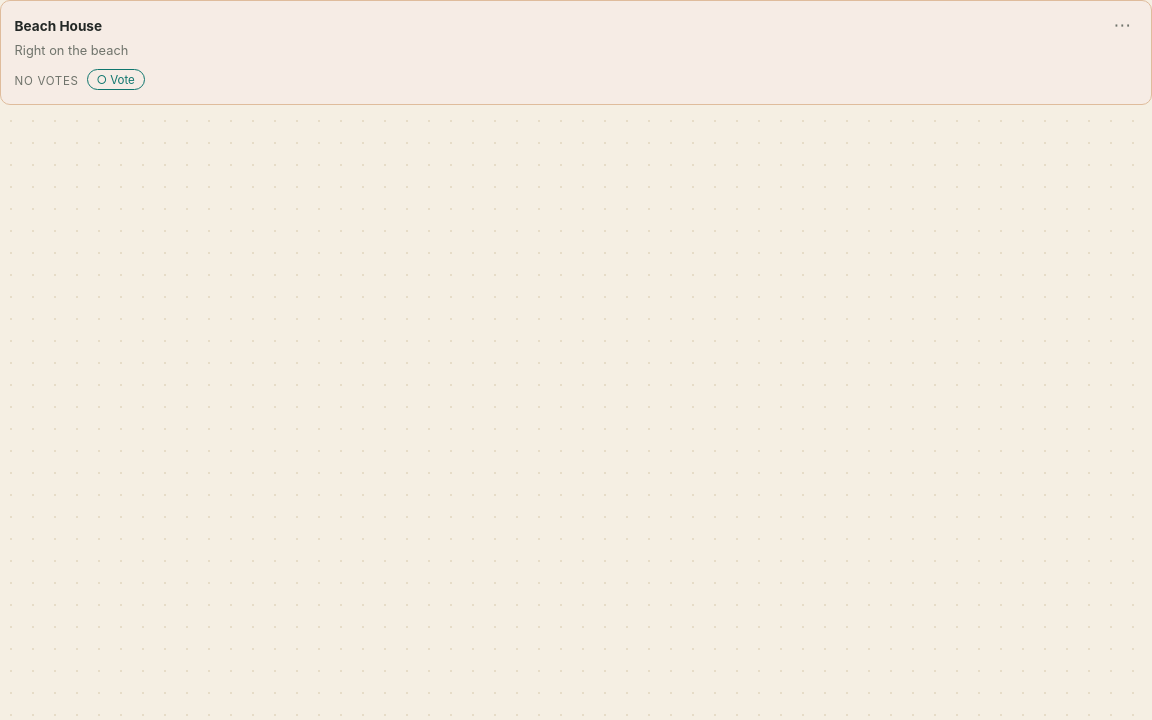
OptionCard › keeps the proposer off the card and in the detail dialog
The width and height of the screenshot is (1152, 720).
Click the button with aria-label "view details".
click(58, 26)  # box [15,18,102,34]
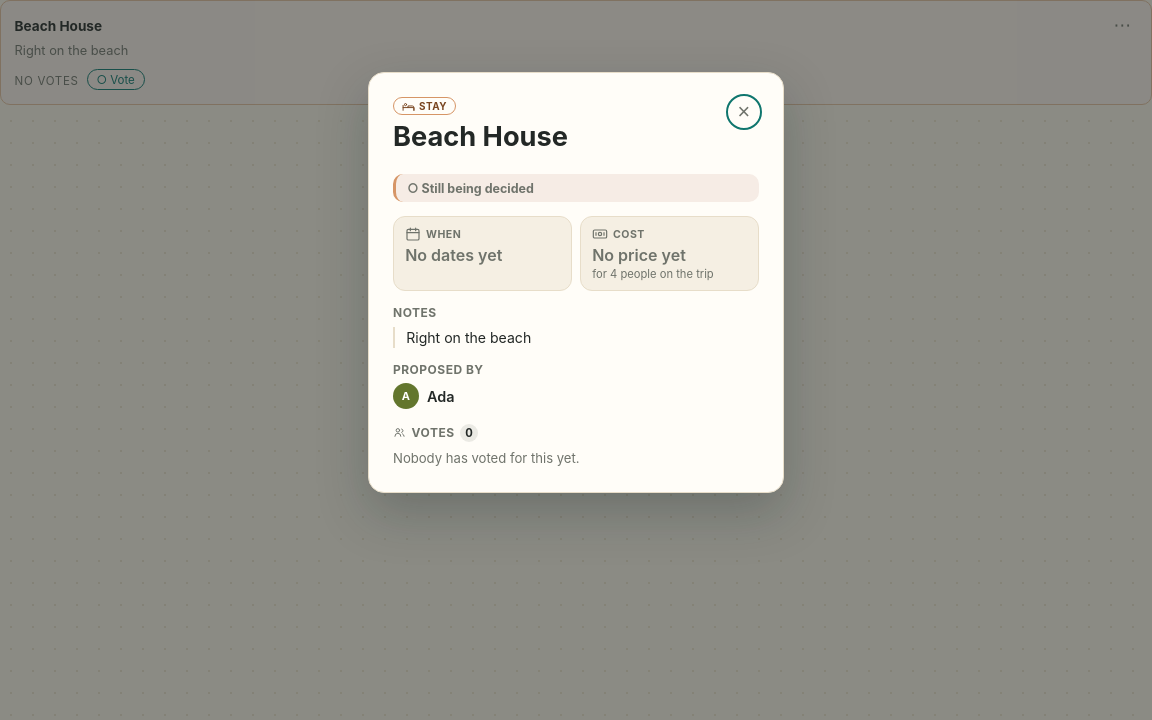
Check: the heading "Proposed by" is shown, box [393,362,484,377]
Check: the text "Ada" is shown, box [427,388,454,405]
